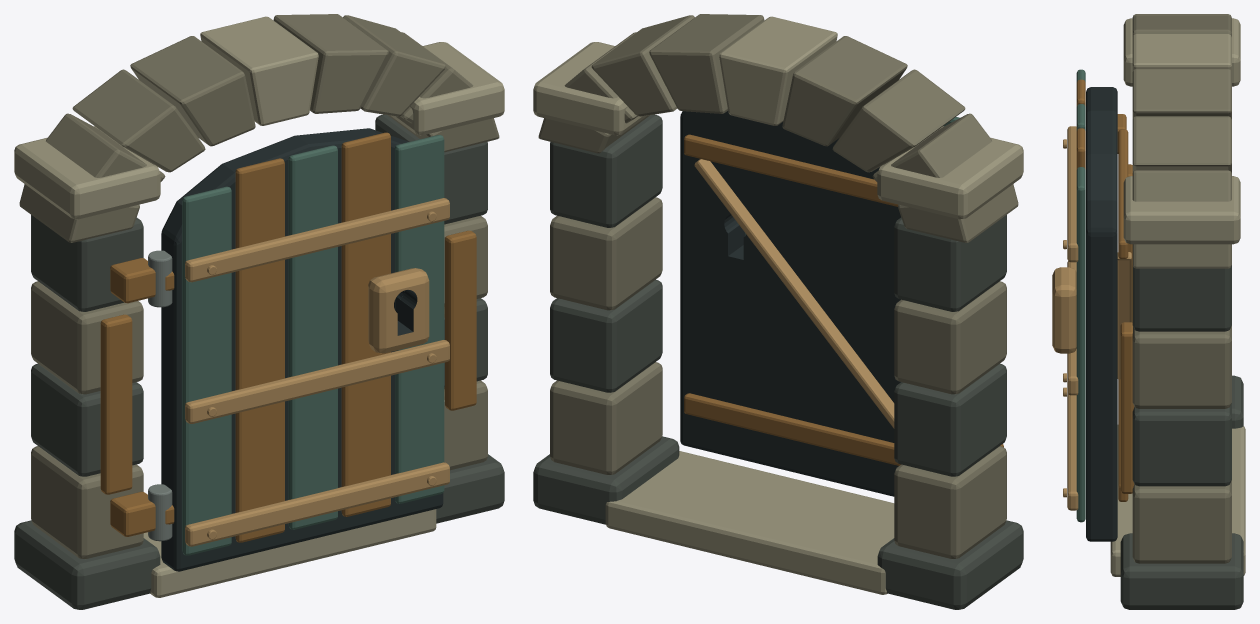
Rendered from KEYED_GATE.hi.glb.
3 views of the same model, side by side, from view 1: azimuth 30°, elevation 25°; view 2: azimuth 150°, elevation 25°; view 3: azimuth 270°, elevation 25° (orthographic). The views are drawn at different scales.
Parts seen in each view (by area): view 1: Body_Mesh, DoorPivot_Mesh; view 2: Body_Mesh, DoorPivot_Mesh; view 3: Body_Mesh, DoorPivot_Mesh.
Part boxes in pixels (x1,y1,x2,y2): Body_Mesh: (14, 14, 504, 609); DoorPivot_Mesh: (161, 128, 449, 571); Body_Mesh: (533, 14, 1023, 609); DoorPivot_Mesh: (680, 111, 959, 496); Body_Mesh: (1110, 14, 1245, 609); DoorPivot_Mesh: (1052, 69, 1131, 541).
Size of the model in its own units: 2.37 by 2.59 by 0.975.
